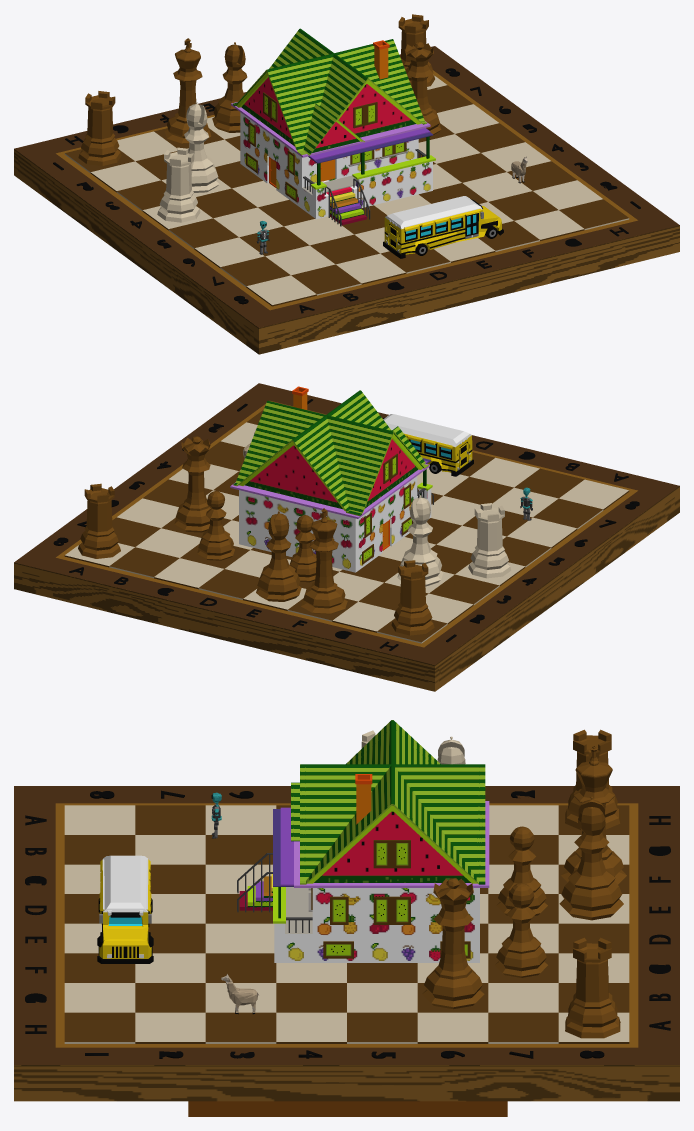
3 renders of one model, top to bottom at view 1: azimuth 30°, elevation 25°; view 2: azimuth 150°, elevation 25°; view 3: azimuth 270°, elevation 25°, orthographic. The views are drawn at different scales.
Parts seen in each view (by area): view 1: Cube.002, Cube.1063, VEHICLES_SCHOOL_BUS; view 2: Cube.002, Cube.1063, VEHICLES_SCHOOL_BUS; view 3: Cube.002, Cube.1063, VEHICLES_SCHOOL_BUS, UNDERGROUND_ART_PIECE_VAN_GOGH, ANIMAL_LLAMA.
Part boxes in pixels (x1,y1,x2,y2): Cube.002: [14, 14, 679, 354]; Cube.1063: [231, 28, 435, 226]; VEHICLES_SCHOOL_BUS: [383, 196, 503, 258]; Cube.002: [14, 383, 679, 691]; Cube.1063: [230, 386, 433, 572]; VEHICLES_SCHOOL_BUS: [382, 414, 473, 476]; Cube.002: [14, 729, 679, 1101]; Cube.1063: [237, 720, 489, 962]; VEHICLES_SCHOOL_BUS: [97, 855, 153, 963]; UNDERGROUND_ART_PIECE_VAN_GOGH: [188, 1101, 507, 1116]; ANIMAL_LLAMA: [221, 974, 258, 1014].
Size of the model in its own units: 3981 by 1610 by 4012.
Materials: 38 (5 with a texture image).
